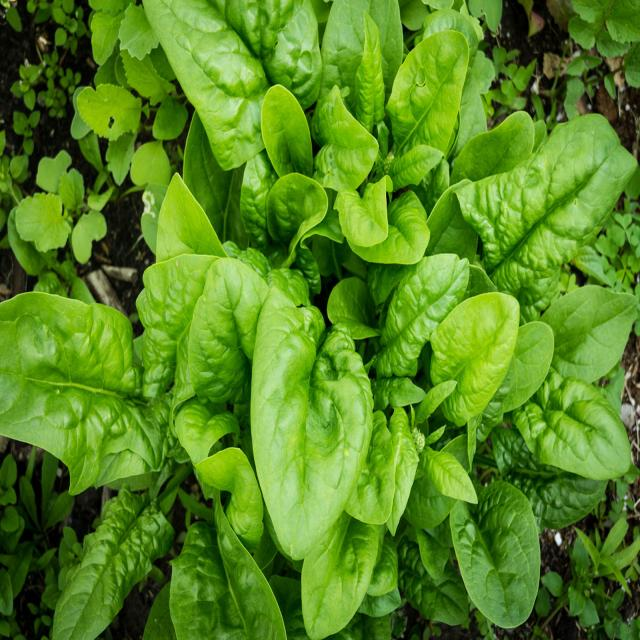spinach: (0, 284, 170, 492), (250, 281, 372, 563), (471, 115, 640, 302), (148, 0, 262, 171), (448, 474, 543, 630), (426, 291, 520, 434), (169, 492, 258, 640), (386, 26, 469, 166), (91, 493, 170, 613), (186, 258, 248, 409), (380, 252, 464, 323)
